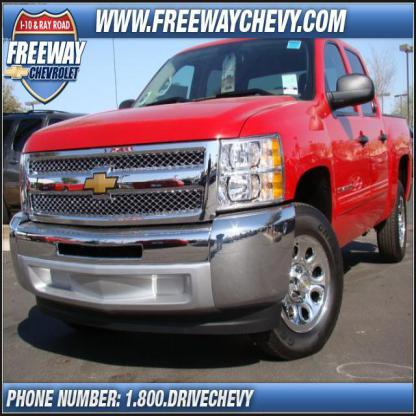Vehicle: (8, 39, 415, 365)
